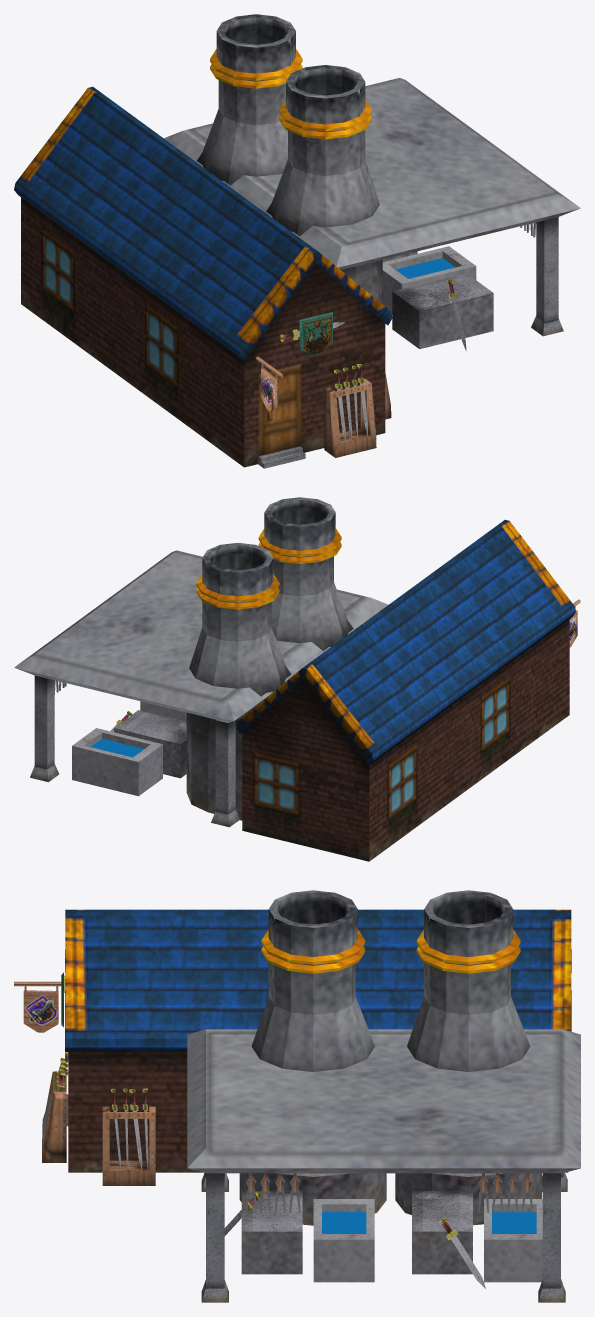
Rendered from kaziyalv2.fbx.
3 renders of one model, top to bottom at view 1: azimuth 30°, elevation 25°; view 2: azimuth 150°, elevation 25°; view 3: azimuth 270°, elevation 25°, orthographic. The views are drawn at different scales.
Parts seen in each view (by area): view 1: polySurface54; view 2: polySurface54; view 3: polySurface54.
Part boxes in pixels (left/top/right/bottom): polySurface54: left=14, top=14, right=580, bottom=468; polySurface54: left=14, top=497, right=580, bottom=861; polySurface54: left=14, top=890, right=580, bottom=1302.
Size of the model in its own units: 929 by 585 by 1028.
